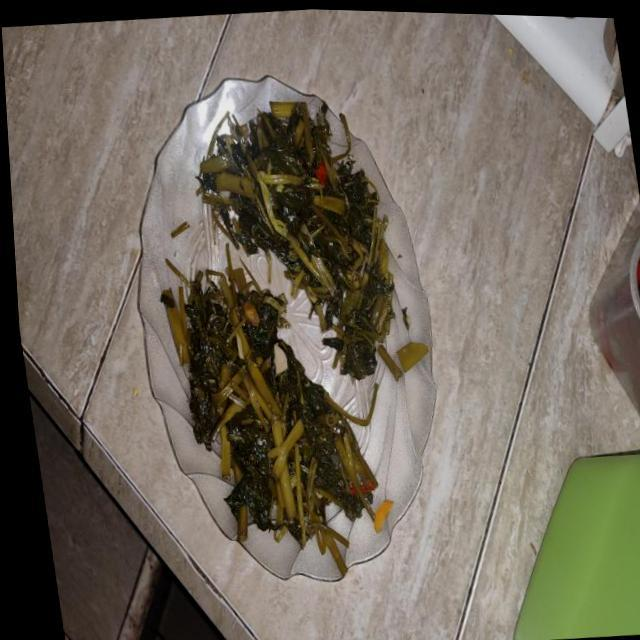tumis_kangkung: (160, 267, 378, 554), (201, 102, 393, 368)
